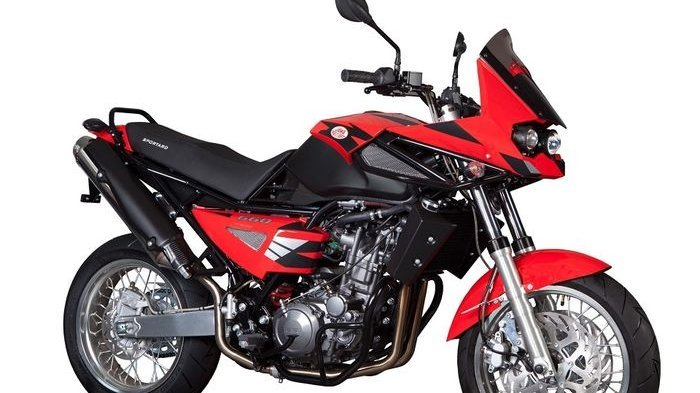motor: (67, 29, 672, 393)
